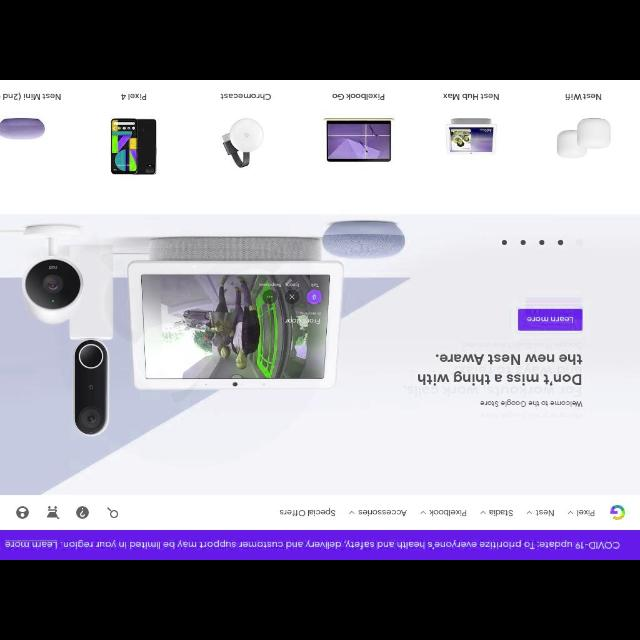backgroundimage: (4, 214, 640, 493)
button: (74, 504, 90, 520), (44, 504, 60, 520), (15, 504, 30, 520), (105, 505, 118, 519)
icon: (44, 505, 60, 519), (75, 505, 89, 519), (16, 504, 28, 520), (106, 506, 118, 518), (568, 511, 574, 515), (420, 511, 426, 515), (349, 510, 355, 514), (526, 511, 532, 514), (480, 511, 486, 514)
iframe: (2, 530, 640, 560)
image: (320, 115, 396, 163), (110, 117, 158, 175), (220, 116, 266, 168), (556, 116, 612, 158), (445, 117, 497, 155), (1, 117, 47, 141), (610, 504, 626, 520)
multitab: (278, 509, 594, 517)
pageindicator: (502, 238, 564, 246)
spinner: (348, 507, 408, 518), (419, 507, 467, 517), (479, 507, 513, 517), (566, 508, 596, 518), (526, 509, 554, 517)
text: (3, 538, 621, 550), (416, 352, 582, 386), (480, 398, 582, 408), (218, 91, 272, 101), (1, 92, 62, 100), (331, 92, 385, 101), (442, 92, 500, 100), (278, 508, 336, 516), (358, 509, 408, 517), (526, 316, 574, 324), (428, 509, 468, 517), (564, 94, 602, 100), (120, 92, 148, 100), (489, 509, 513, 517), (577, 508, 595, 518), (536, 509, 554, 516)
textbutton: (518, 308, 582, 330)
toolbar: (1, 494, 640, 530)
